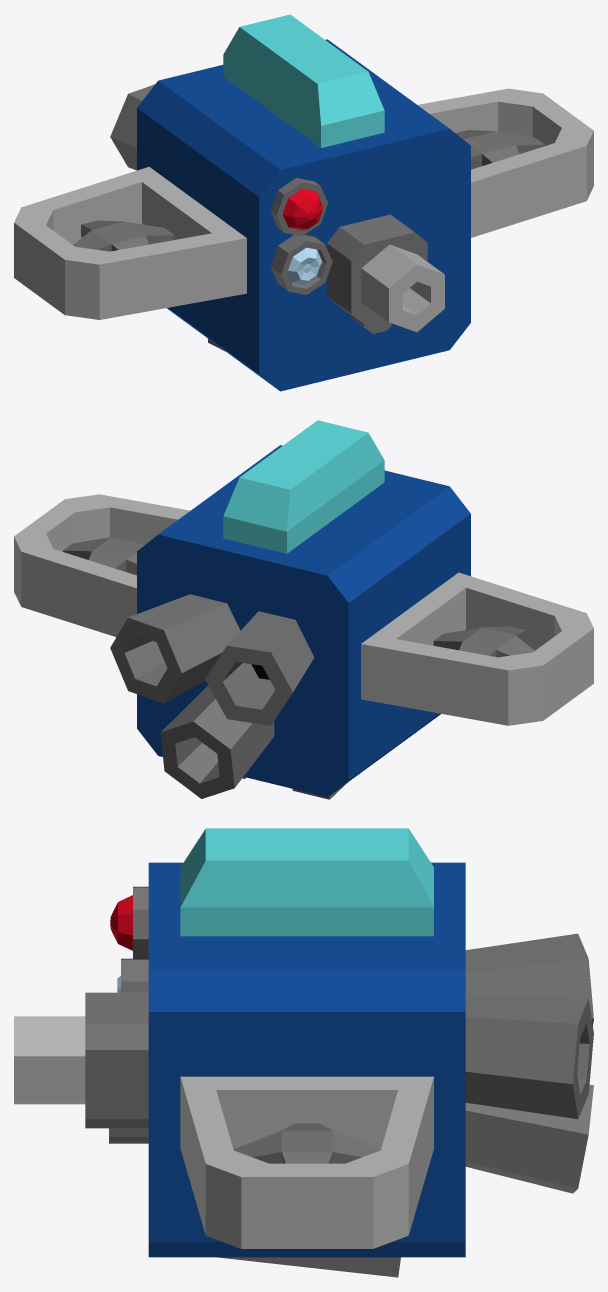
Rendered from CH_Pew.fbx.
3 renders of one model, top to bottom at view 1: azimuth 30°, elevation 25°; view 2: azimuth 150°, elevation 25°; view 3: azimuth 270°, elevation 25°, orthographic. The views are drawn at different scales.
Parts seen in each view (by area): view 1: CH_Pew_Body, CH_Pew_RightWing, CH_Pew_LeftWing, CH_Pew_Light, CH_Pew_Cannon, CH_Pew_CannonMouth, CH_Pew_Cams, CH_Pew_RightRotor, CH_Pew_LeftRotor, CH_Pew_Propulsors; view 2: CH_Pew_Body, CH_Pew_Propulsors, CH_Pew_RightWing, CH_Pew_LeftWing, CH_Pew_Light, CH_Pew_RightRotor, CH_Pew_LeftRotor; view 3: CH_Pew_Body, CH_Pew_LeftWing, CH_Pew_Propulsors, CH_Pew_Light, CH_Pew_Cannon, CH_Pew_CannonMouth, CH_Pew_LeftRotor, CH_Pew_Cams, CH_Pew_LeftGear.
Boxes of the visible parts, x1,y1,x2,y2 form: CH_Pew_Body: [137, 39, 470, 391]; CH_Pew_RightWing: [14, 167, 246, 319]; CH_Pew_LeftWing: [418, 88, 593, 237]; CH_Pew_Light: [223, 14, 384, 147]; CH_Pew_Cannon: [327, 214, 427, 333]; CH_Pew_CannonMouth: [361, 244, 444, 332]; CH_Pew_Cams: [270, 178, 332, 294]; CH_Pew_RightRotor: [73, 220, 174, 251]; CH_Pew_LeftRotor: [455, 130, 544, 169]; CH_Pew_Propulsors: [110, 84, 154, 170]; CH_Pew_Body: [137, 445, 470, 797]; CH_Pew_Propulsors: [110, 594, 314, 798]; CH_Pew_RightWing: [361, 572, 593, 725]; CH_Pew_LeftWing: [14, 494, 190, 637]; CH_Pew_Light: [223, 420, 384, 553]; CH_Pew_RightRotor: [433, 626, 534, 657]; CH_Pew_LeftRotor: [63, 536, 151, 575]; CH_Pew_Body: [148, 862, 465, 1257]; CH_Pew_LeftWing: [180, 1076, 433, 1248]; CH_Pew_Propulsors: [465, 933, 593, 1193]; CH_Pew_Light: [180, 828, 433, 936]; CH_Pew_Cannon: [85, 992, 148, 1143]; CH_Pew_CannonMouth: [14, 1016, 85, 1104]; CH_Pew_LeftRotor: [233, 1123, 380, 1163]; CH_Pew_Cams: [110, 886, 148, 992]; CH_Pew_LeftGear: [218, 1257, 400, 1277].
Bounding box in the file's own units: 500 × 275 × 366.
